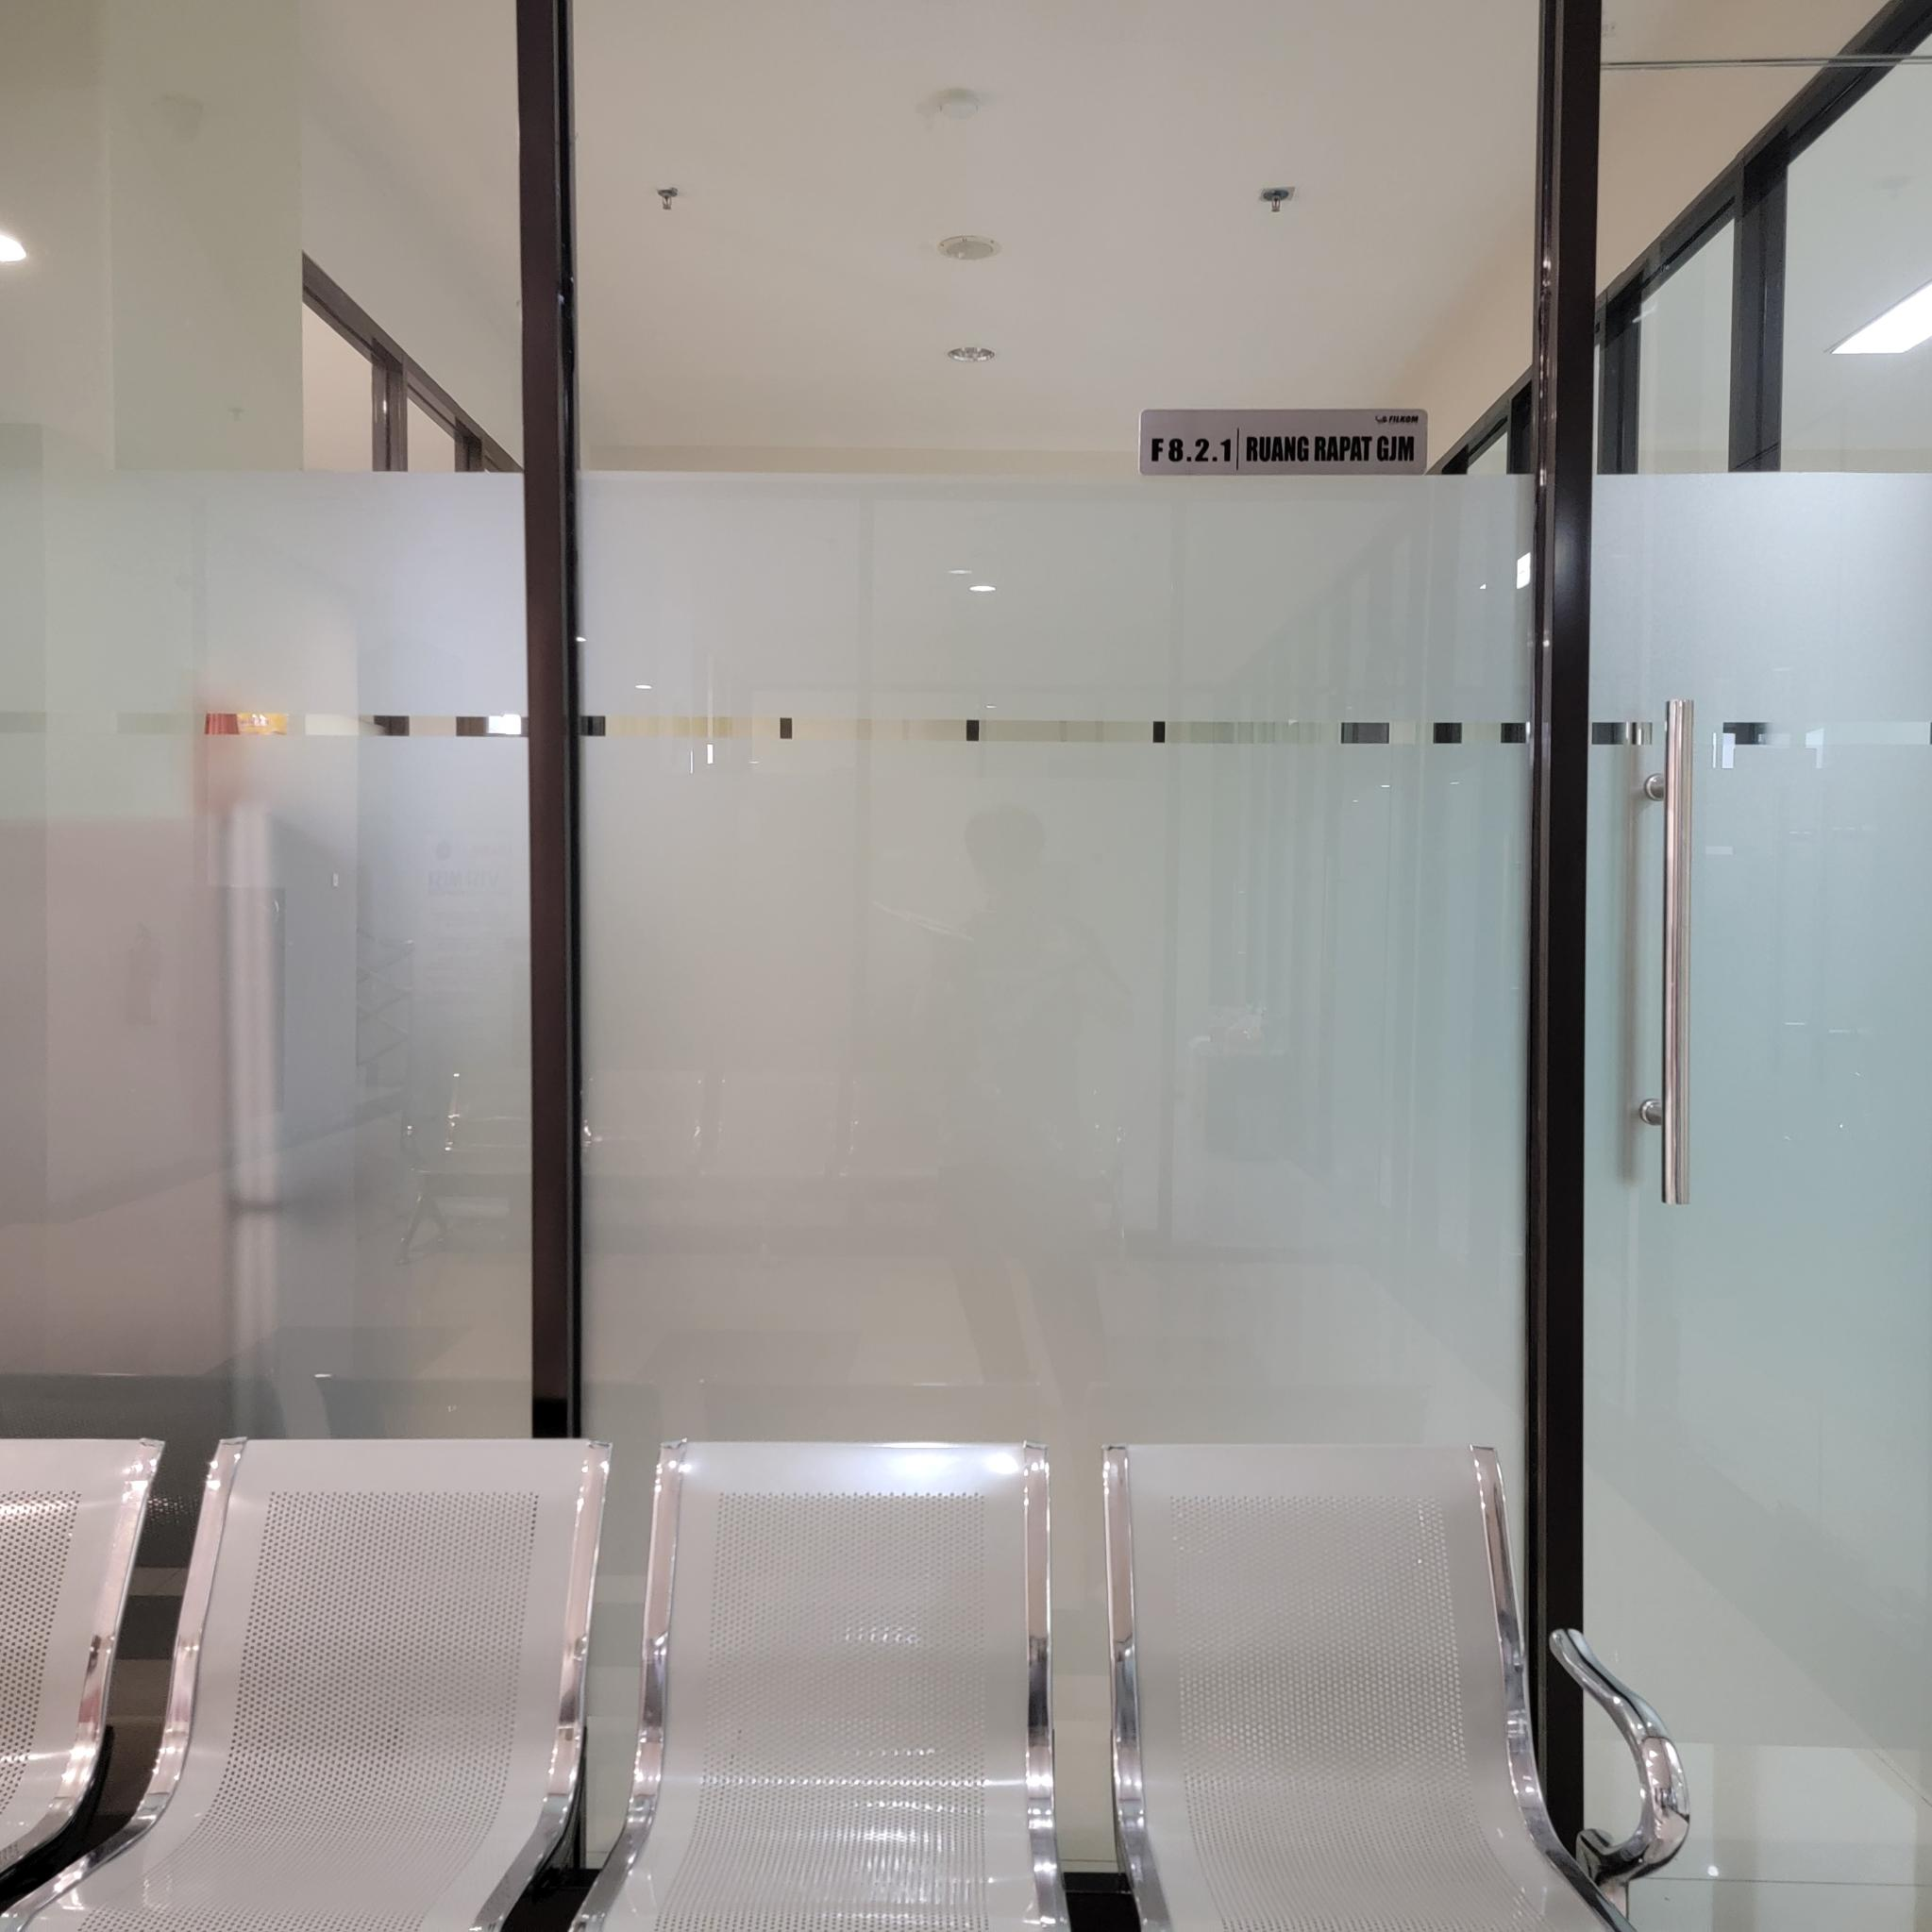plate: (1137, 406, 1428, 479)
